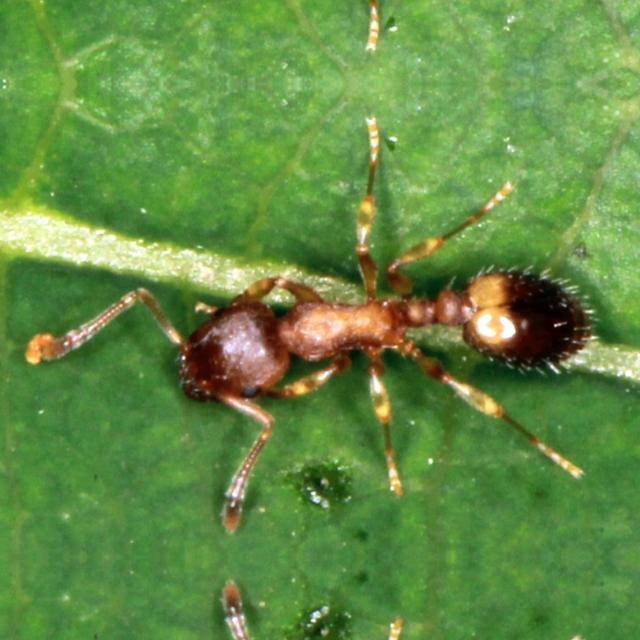Myrmica: (137, 212, 621, 480)
